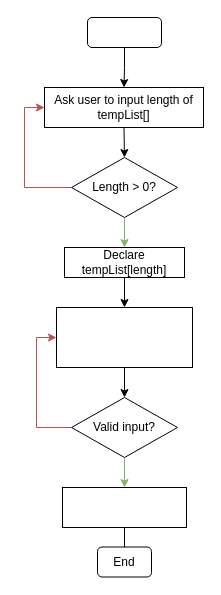
This 221x595 diagram has some shape labels left out. Each missing label, with the centre of its shape:
Ask user to input temperature of each element in tempList[]: the point at 124,337
Print tempList[] and average temperature: the point at 124,507
Start: the point at 124,32
